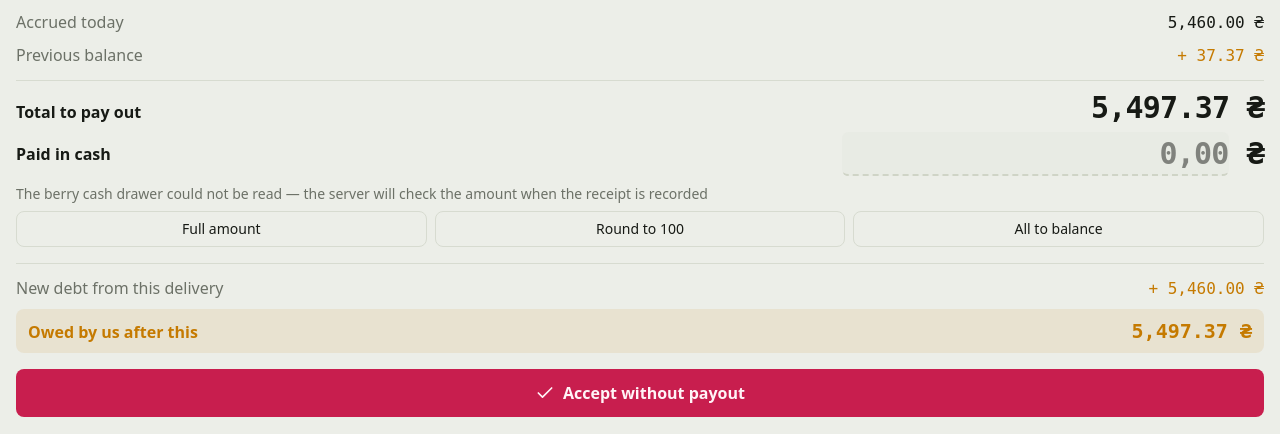
Scenario: TotalsSection — the cap and the clamp › caps a null (unread) drawer at the TOTAL, never at zero, and says so when typed over (review finding 2, R1)
This screenshot has width=1280, height=434.
Type "5497.37" into the field labelled "Paid in cash".
click(1035, 154); type("5497.37")  # box x1=842 y1=132 x2=1229 y2=176
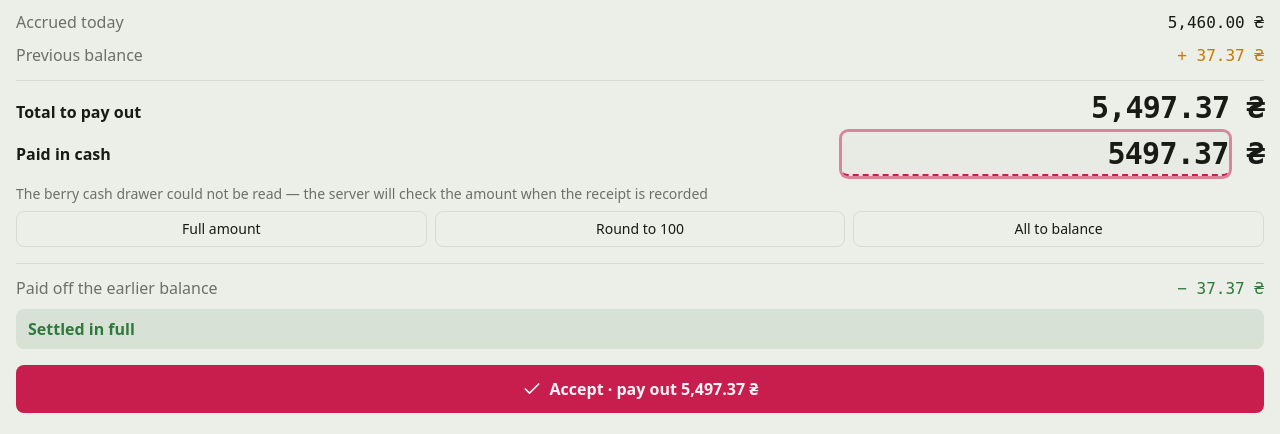
Check: the button "Accept · pay out 5,497.37 ₴" is enabled, box x1=16 y1=365 x2=1264 y2=413
Replace the text in the field labelled "Paid in cash" with "9999" at (1035, 154), box x1=842 y1=132 x2=1229 y2=176
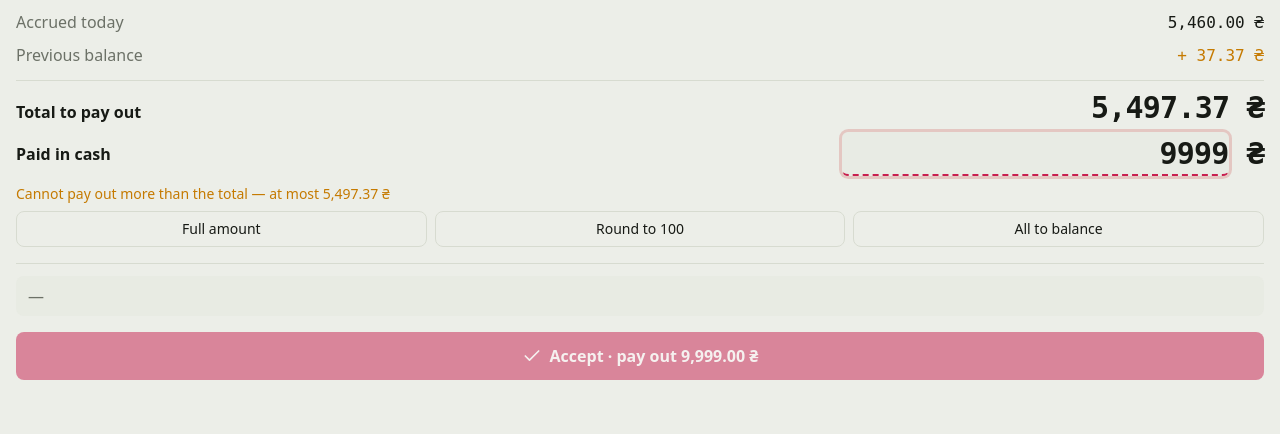
Check: the button "Accept · pay out 9,999.00 ₴" is disabled, box x1=16 y1=332 x2=1264 y2=380
